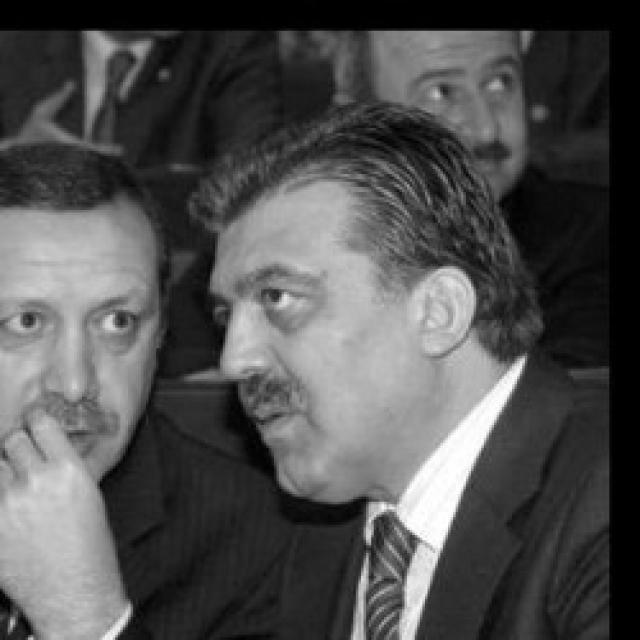real: (215, 125, 419, 517), (0, 128, 163, 502), (323, 24, 550, 204), (208, 276, 320, 327), (4, 305, 136, 346), (420, 63, 521, 109)
